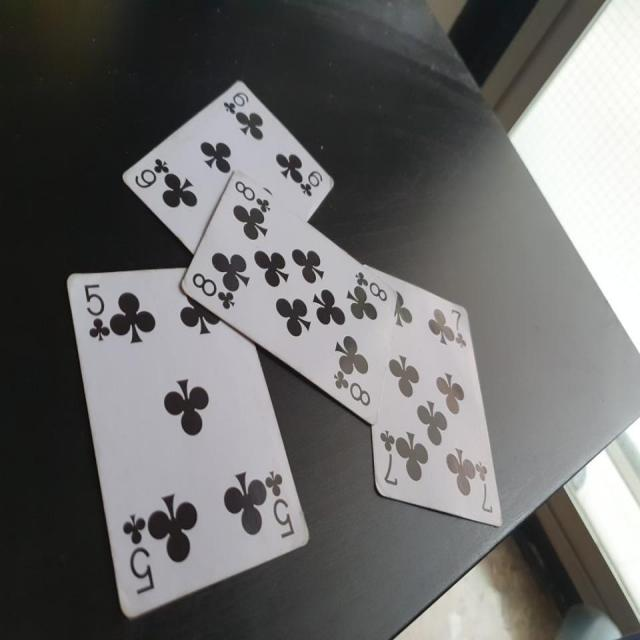5 Trefoils: (65, 266, 308, 621)
6 Trefoils: (120, 77, 335, 258)
7 Trefoils: (362, 261, 504, 530)
8 Trefoils: (179, 171, 399, 425)
